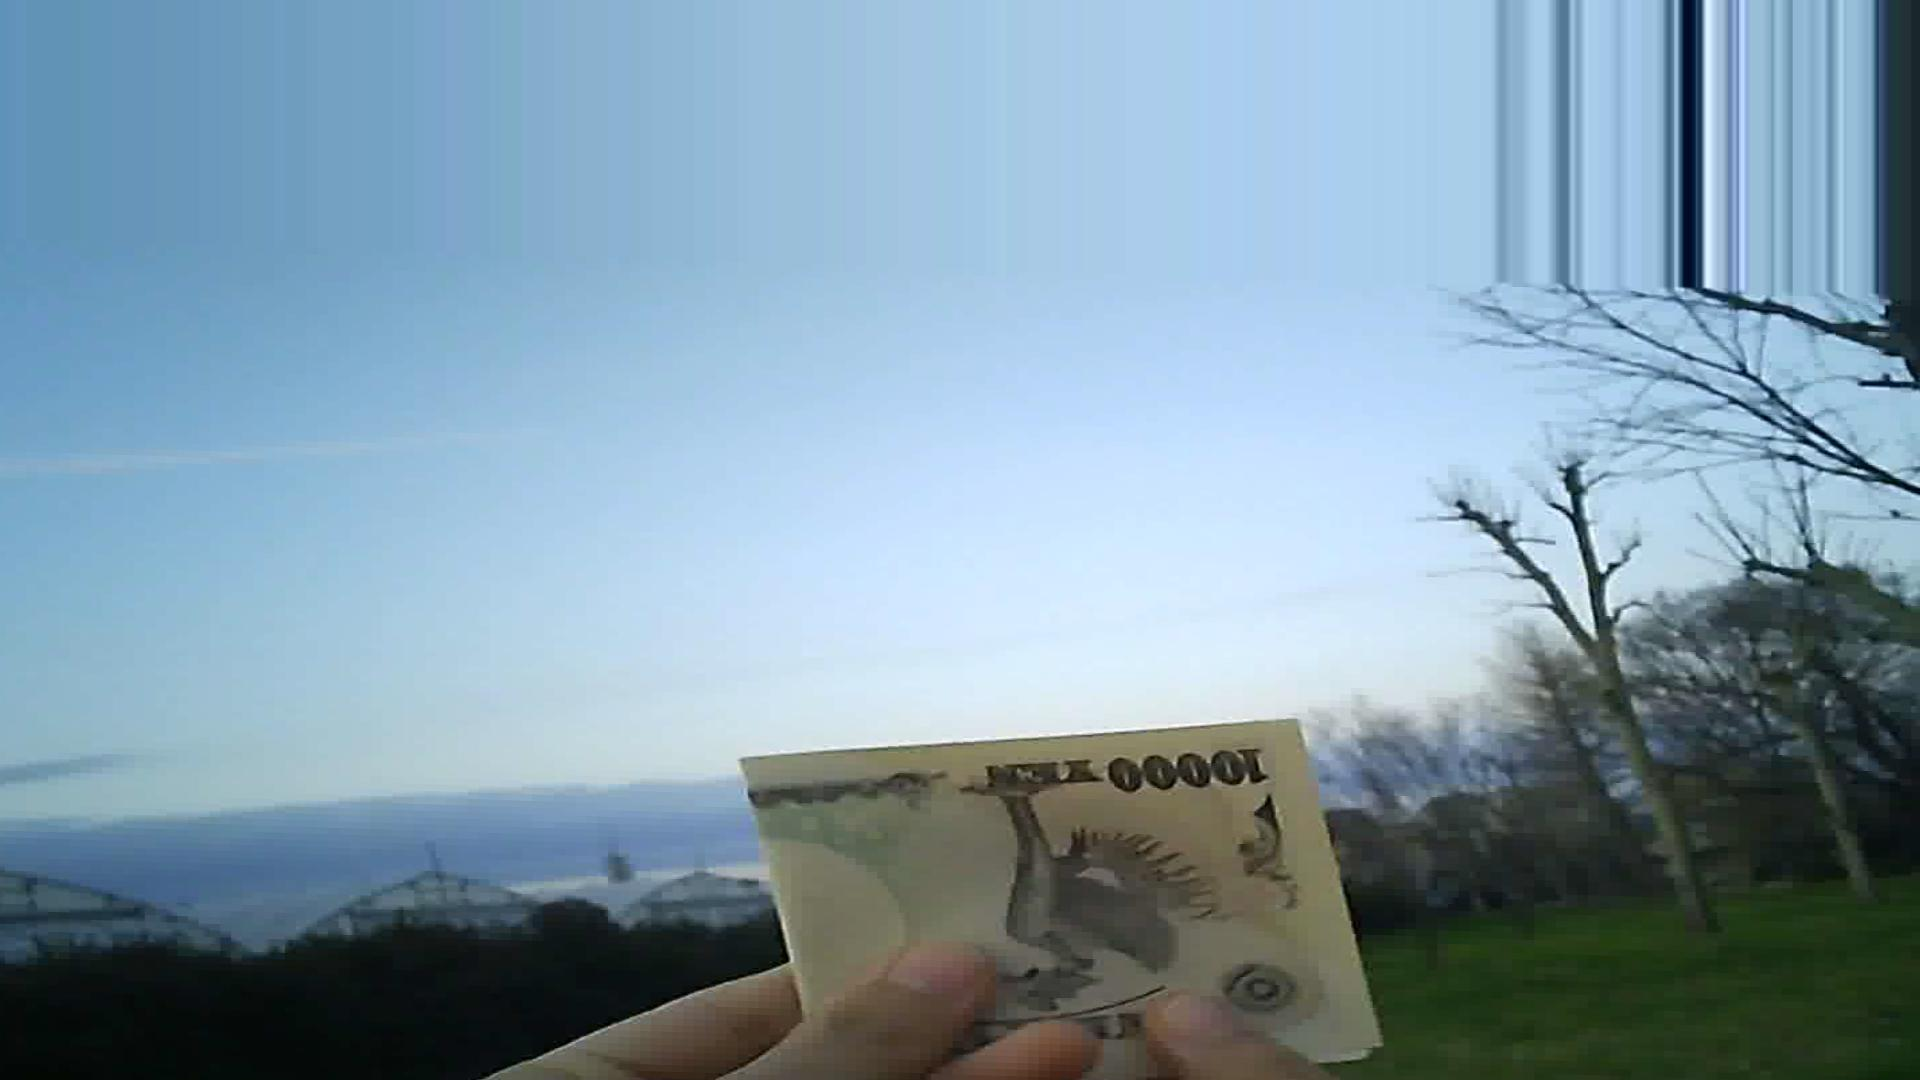10,000 Yen: (719, 688, 1360, 1079)
